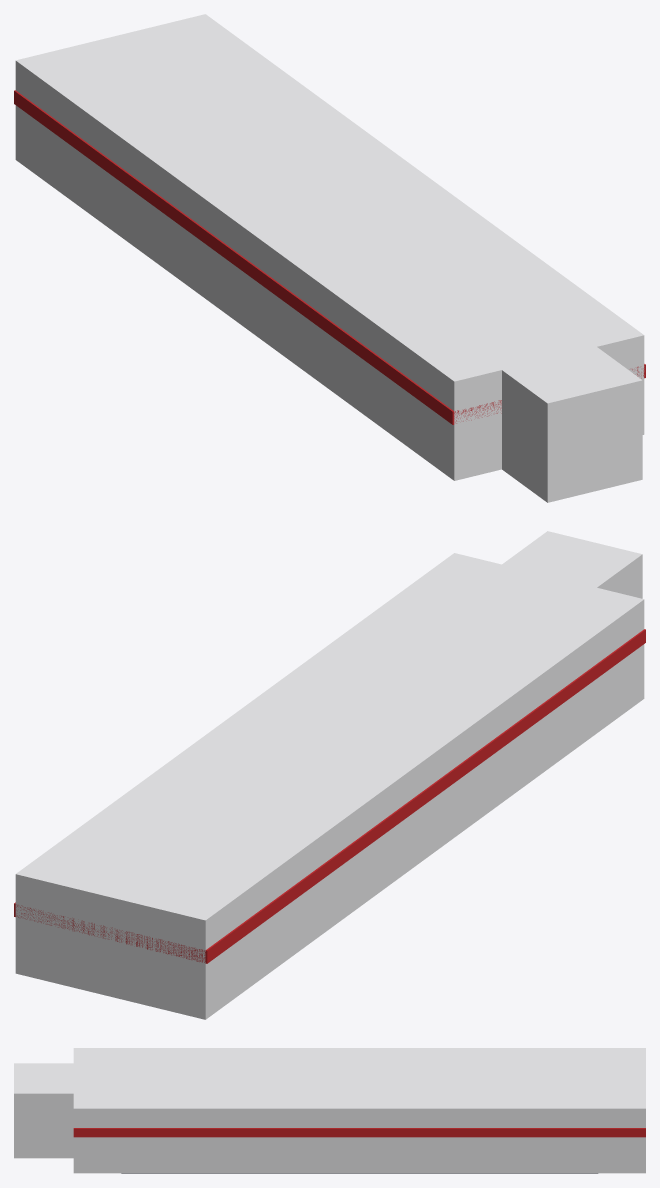
File: boat.glb
3 views of the same model, one above another, from view 1: azimuth 30°, elevation 25°; view 2: azimuth 150°, elevation 25°; view 3: azimuth 270°, elevation 25° (orthographic). The views are drawn at different scales.
Parts seen in each view (by area): view 1: boat; view 2: boat; view 3: boat.
Boxes of the visible parts, box(x1,y1,x2,y2) form: boat: box(14, 14, 645, 502); boat: box(14, 531, 645, 1019); boat: box(14, 1048, 645, 1173).
Bounding box in the file's own units: 0.61 × 0.325 × 2.65.
1 material, 1 textured.
